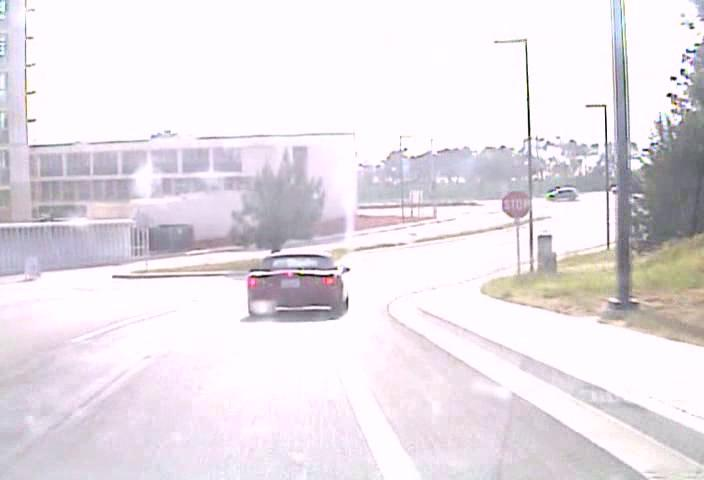stop: (501, 189, 531, 219)
